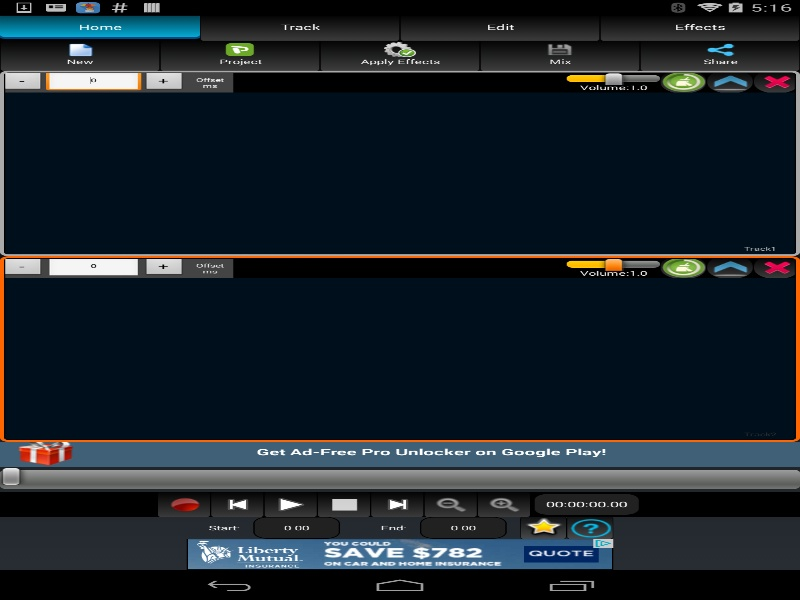Button: (0, 441, 800, 466), (0, 15, 200, 40), (200, 15, 400, 40), (400, 15, 600, 40), (600, 15, 800, 40), (0, 40, 160, 70), (160, 40, 320, 70), (320, 40, 480, 70), (480, 40, 640, 70), (640, 40, 800, 70), (210, 491, 264, 516), (370, 491, 424, 516), (157, 491, 210, 516), (264, 491, 317, 516), (317, 491, 370, 516), (424, 491, 477, 516), (477, 491, 530, 516), (706, 70, 753, 92), (753, 70, 800, 92), (706, 256, 753, 278), (753, 256, 800, 278), (566, 516, 613, 538), (0, 70, 46, 92), (141, 70, 187, 92), (660, 70, 706, 92), (0, 256, 46, 278), (141, 256, 187, 278), (660, 256, 706, 278), (520, 516, 566, 538)
Input: (533, 493, 640, 515), (46, 70, 141, 92), (46, 256, 141, 278), (253, 516, 340, 538), (420, 516, 506, 538)
